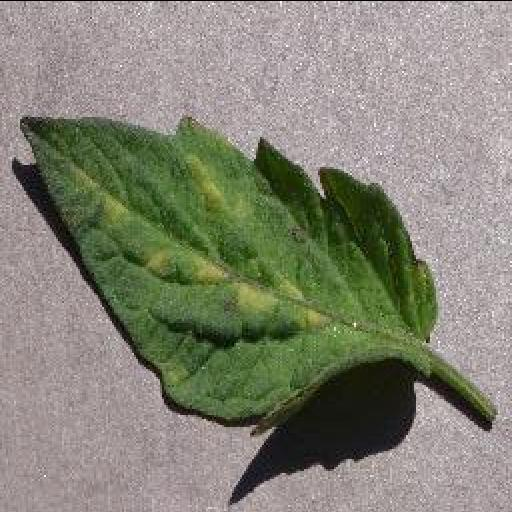disease_tomato: (16, 112, 438, 432)
